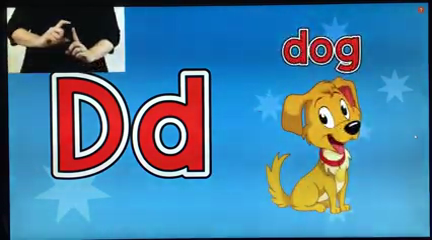D: (42, 16, 88, 65)
